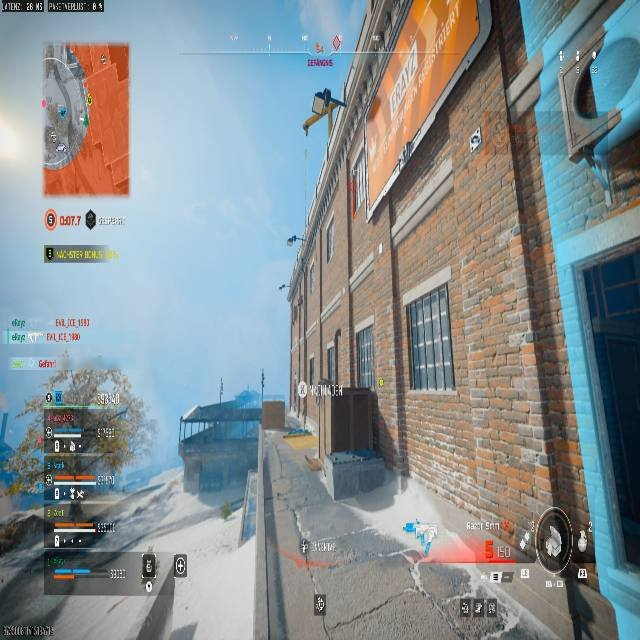head: (317, 86, 333, 101)
player: (301, 87, 345, 136), (404, 517, 438, 556), (68, 488, 88, 522)
